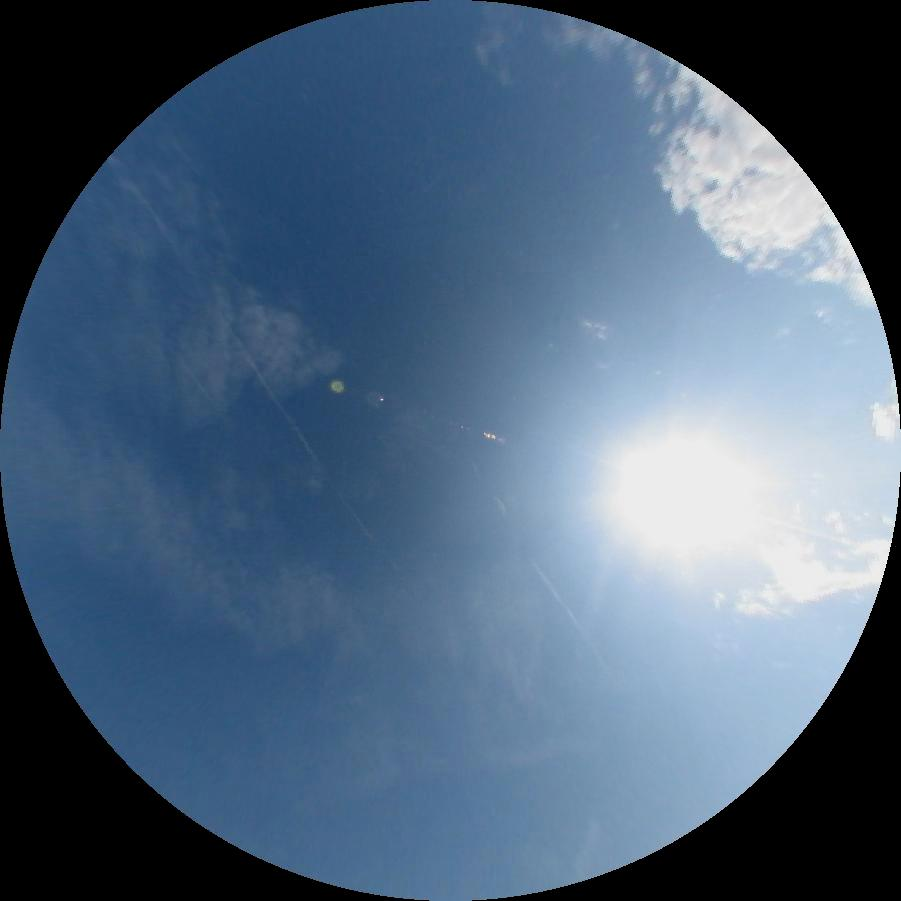contrail old: (104, 153, 369, 539), (527, 554, 606, 663)
contrail young: (168, 342, 215, 406), (420, 169, 447, 197)
sun: (610, 429, 759, 558)
